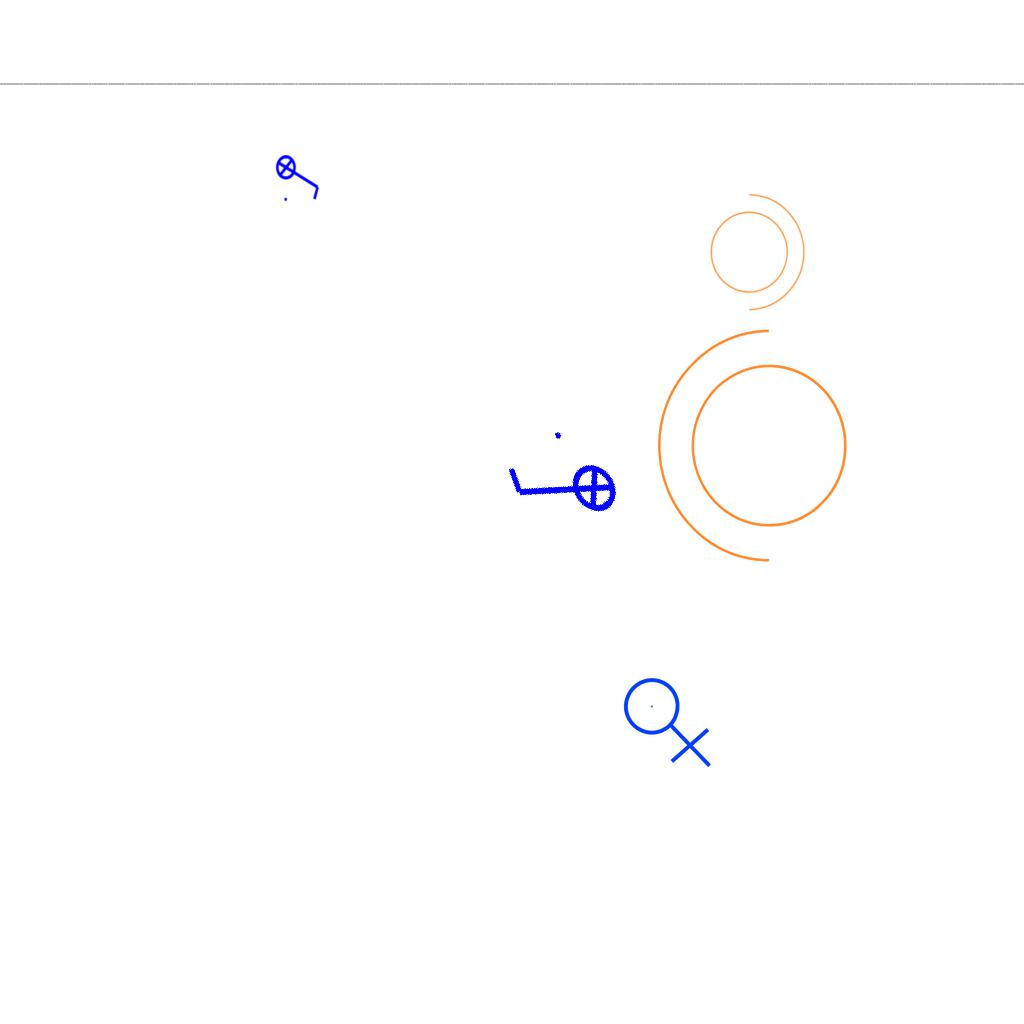Ausschalter_beleuchtet: (491, 415, 635, 563), (275, 148, 323, 204)
Elektroanschluss_allgemein_230V_Geraeteanschlussdose_230V: (622, 669, 716, 768)
Scheinwerfer_fuer_Alarmbeleuchtung: (647, 320, 872, 584), (698, 183, 810, 315)
